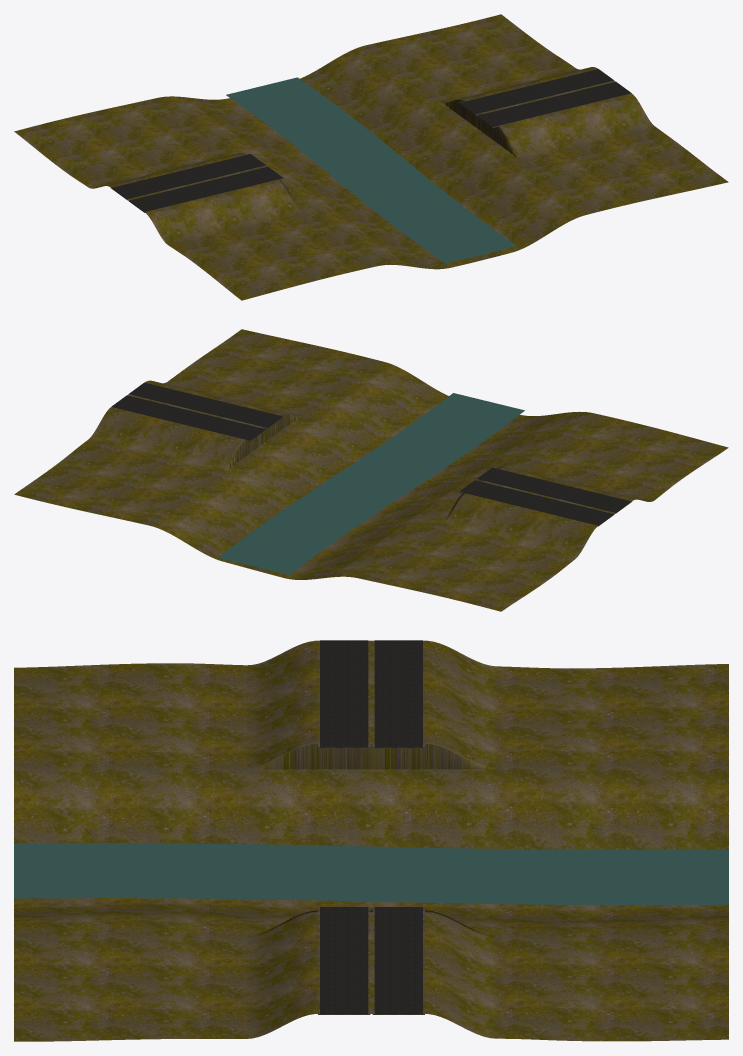
Rendered from girder_low.glb.
3 views of the same model, one above another, from view 1: azimuth 30°, elevation 25°; view 2: azimuth 150°, elevation 25°; view 3: azimuth 270°, elevation 25° (orthographic). The views are drawn at different scales.
Parts seen in each view (by area): view 1: RiverValleyTerrain, RiverSurface, Approach_1_1_Road, Approach_1_2_Road, Approach_-1_1_Road, Approach_-1_2_Road; view 2: RiverValleyTerrain, RiverSurface, Approach_-1_1_Road, Approach_1_1_Road, Approach_1_2_Road, Approach_-1_2_Road; view 3: RiverValleyTerrain, RiverSurface, Approach_-1_1_Road, Approach_-1_2_Road, Approach_1_1_Road, Approach_1_2_Road.
Part boxes in pixels (x1,y1,x2,y2): RiverValleyTerrain: (14,14,728,300); RiverSurface: (226,77,516,263); Approach_1_1_Road: (477,82,631,126); Approach_1_2_Road: (460,69,613,114); Approach_-1_1_Road: (129,166,282,211); Approach_-1_2_Road: (111,154,265,199); RiverValleyTerrain: (14,329,728,611); RiverSurface: (218,393,524,574); Approach_-1_1_Road: (477,467,631,512); Approach_1_1_Road: (129,382,283,427); Approach_1_2_Road: (111,395,265,440); Approach_-1_2_Road: (460,480,613,525); RiverValleyTerrain: (14,640,728,1041); RiverSurface: (14,843,728,905); Approach_-1_1_Road: (320,640,368,747); Approach_-1_2_Road: (374,640,422,747); Approach_1_1_Road: (320,907,368,1013); Approach_1_2_Road: (374,907,422,1013).
Bounding box in the file's own units: 210 × 14.75 × 170.
4 materials, 3 textured.
